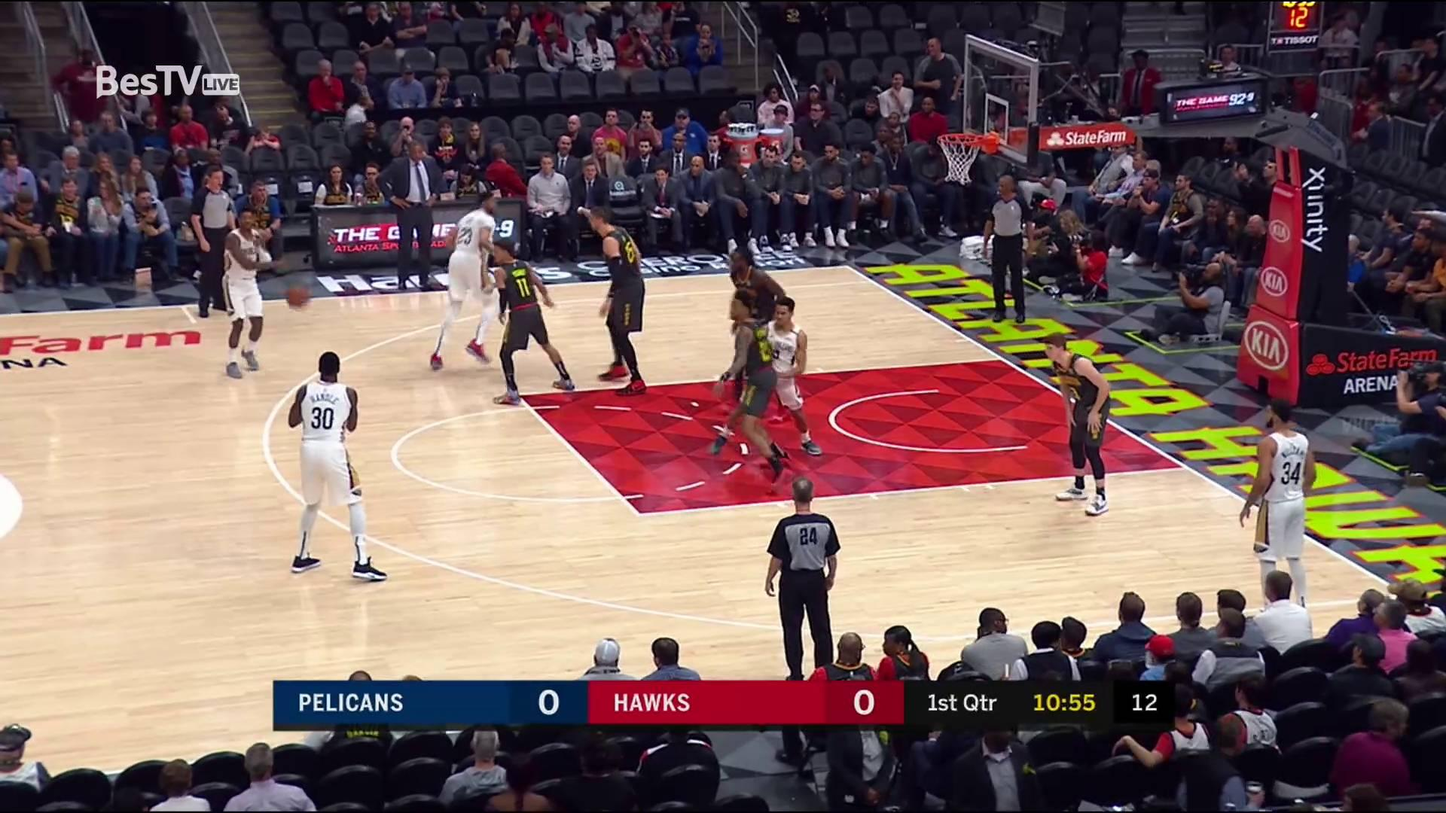basketball: (280, 281, 313, 310)
